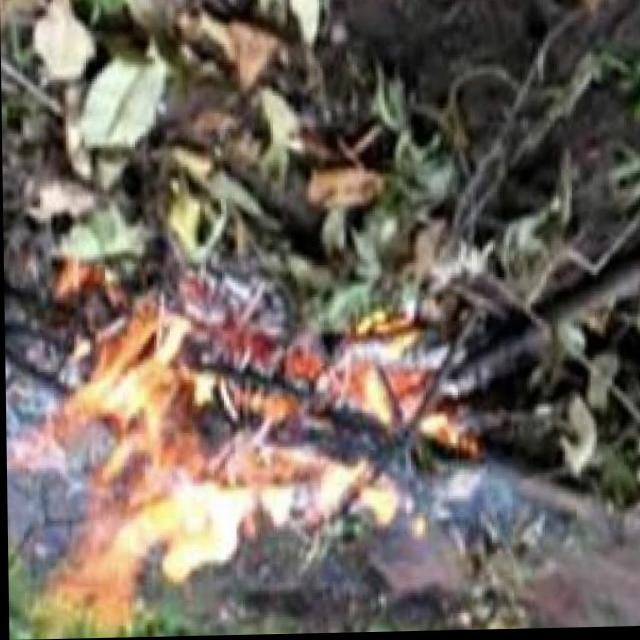Fire: (17, 318, 467, 624)
